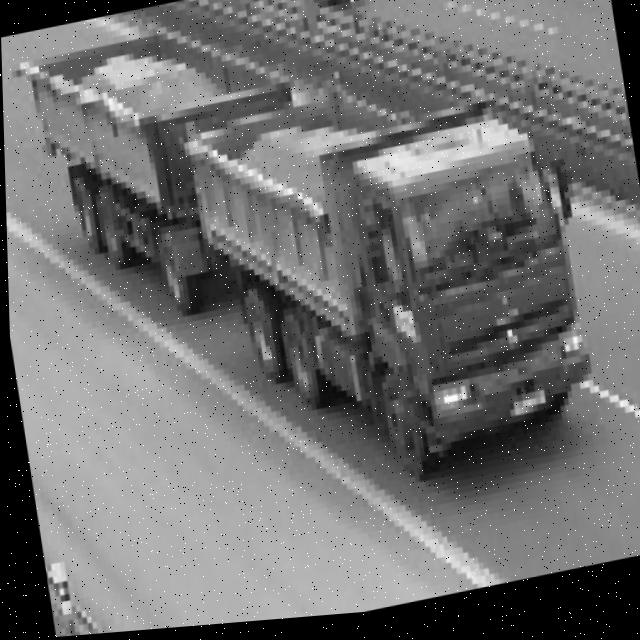truck: (304, 92, 613, 490)
